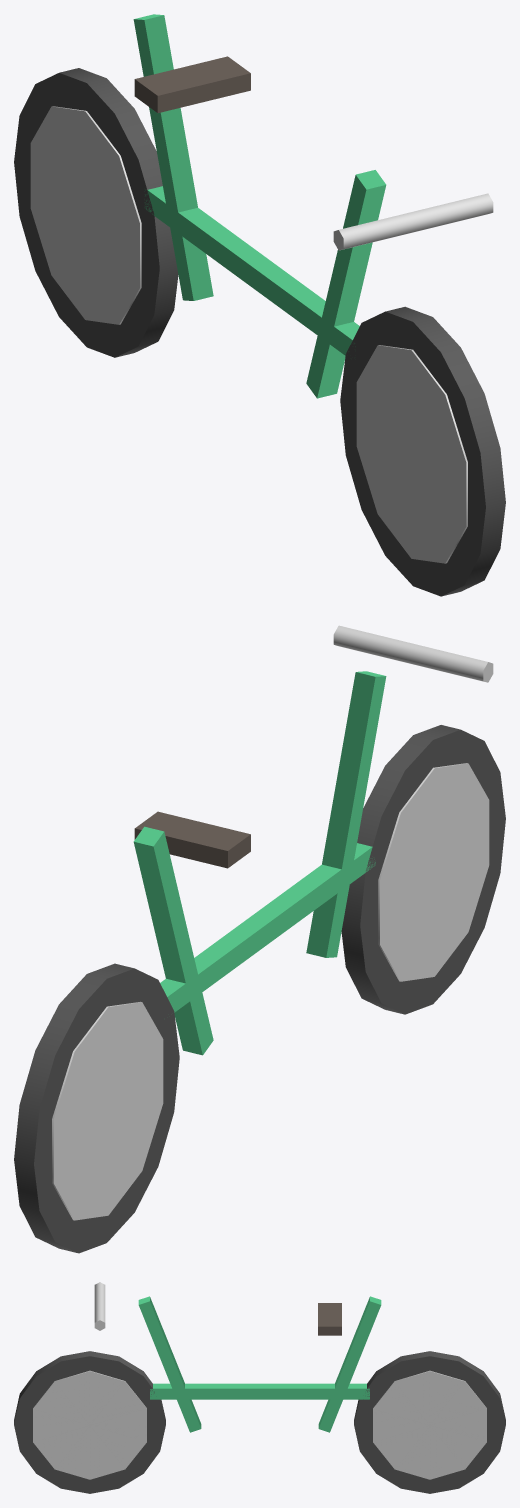
File: bike.glb
The picture shows the model from 3 angles, top to bottom: view 1: azimuth 30°, elevation 25°; view 2: azimuth 150°, elevation 25°; view 3: azimuth 270°, elevation 25°; orthographic projection. The views are drawn at different scales.
Visible parts, largest first — view 1: root; view 2: root; view 3: root.
Part boxes in pixels (x1=…): root: x1=14, y1=14, x2=505, y2=596; root: x1=14, y1=625, x2=505, y2=1253; root: x1=14, y1=1282, x2=505, y2=1493.
Size of the model in its own units: 0.45 by 1.06 by 2.46.
